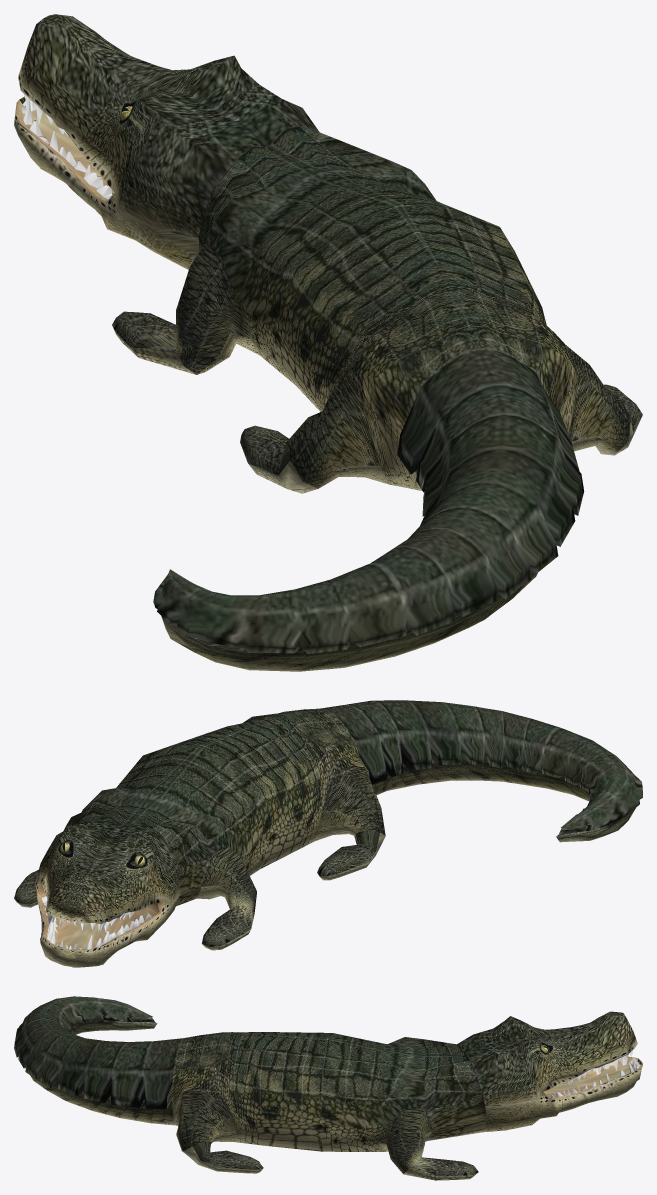
File: Kroko.fbx
3 renders of one model, top to bottom at view 1: azimuth 30°, elevation 25°; view 2: azimuth 150°, elevation 25°; view 3: azimuth 270°, elevation 25°, orthographic. The views are drawn at different scales.
Parts seen in each view (by area): view 1: Cube; view 2: Cube; view 3: Cube.
Part boxes in pixels (box(x1,y1,x2,y2)): Cube: box(14, 14, 642, 671); Cube: box(14, 700, 642, 967); Cube: box(14, 996, 642, 1180).
Bounding box in the file's own units: 1534 × 2512 × 473.
